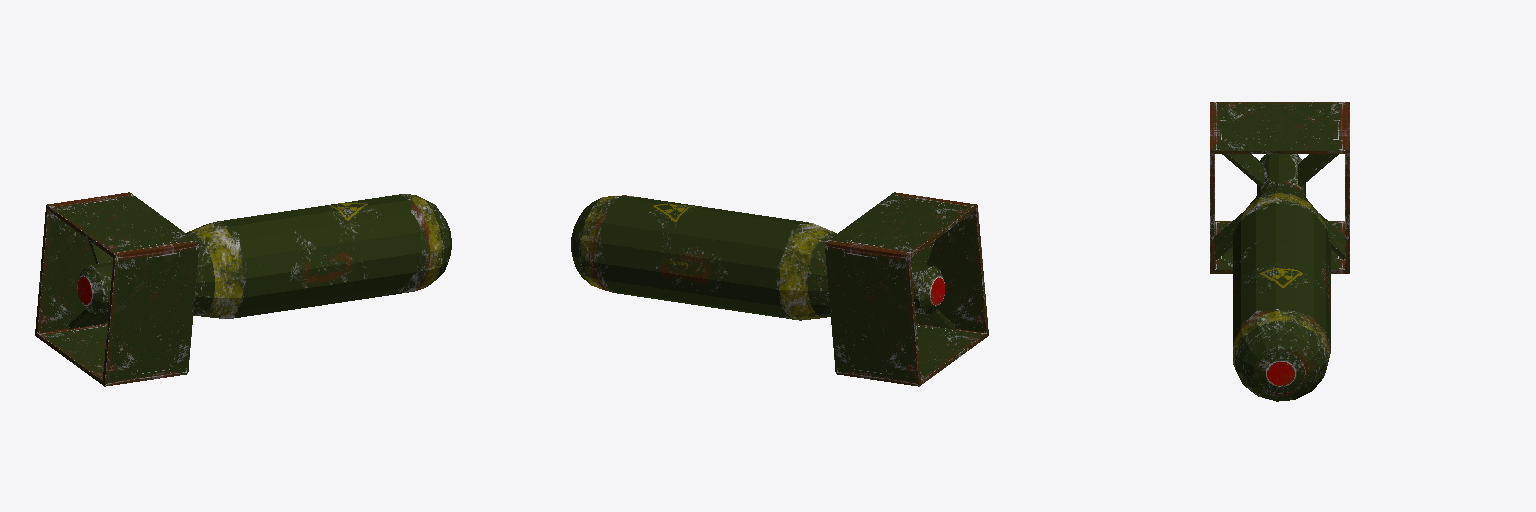
The picture shows the model from 3 angles: view 1: azimuth 30°, elevation 25°; view 2: azimuth 150°, elevation 25°; view 3: azimuth 270°, elevation 25°; orthographic projection.
Parts seen in each view (by area): view 1: Bomb_1; view 2: Bomb_1; view 3: Bomb_1.
Part boxes in pixels (x1,y1,x2,y2): Bomb_1: (35, 192, 451, 386); Bomb_1: (571, 192, 988, 386); Bomb_1: (1210, 102, 1349, 401).
Size of the model in its own units: 2.56 by 0.8991 by 0.8265.
Materials: 1 (1 with a texture image).